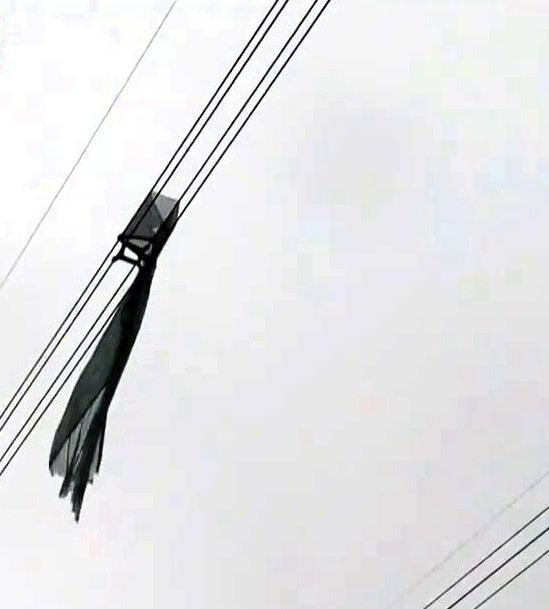wire foreign body: (40, 186, 199, 496)
